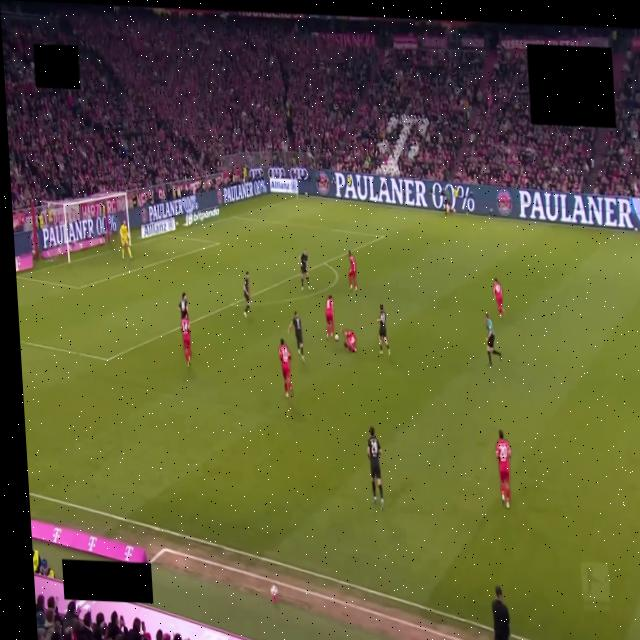ball: (335, 334, 339, 341)
player: (367, 426, 384, 510), (496, 430, 511, 508), (288, 311, 304, 362), (279, 340, 293, 397), (378, 304, 390, 354), (119, 221, 132, 259), (181, 317, 190, 367), (300, 250, 310, 290), (493, 278, 503, 317), (348, 251, 357, 291), (326, 295, 334, 340), (243, 272, 250, 318), (343, 330, 356, 352), (179, 293, 188, 318)
referee: (485, 314, 501, 366)
